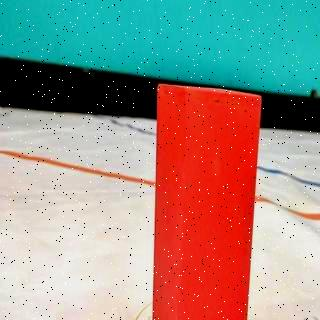redbox: (152, 80, 263, 320)
